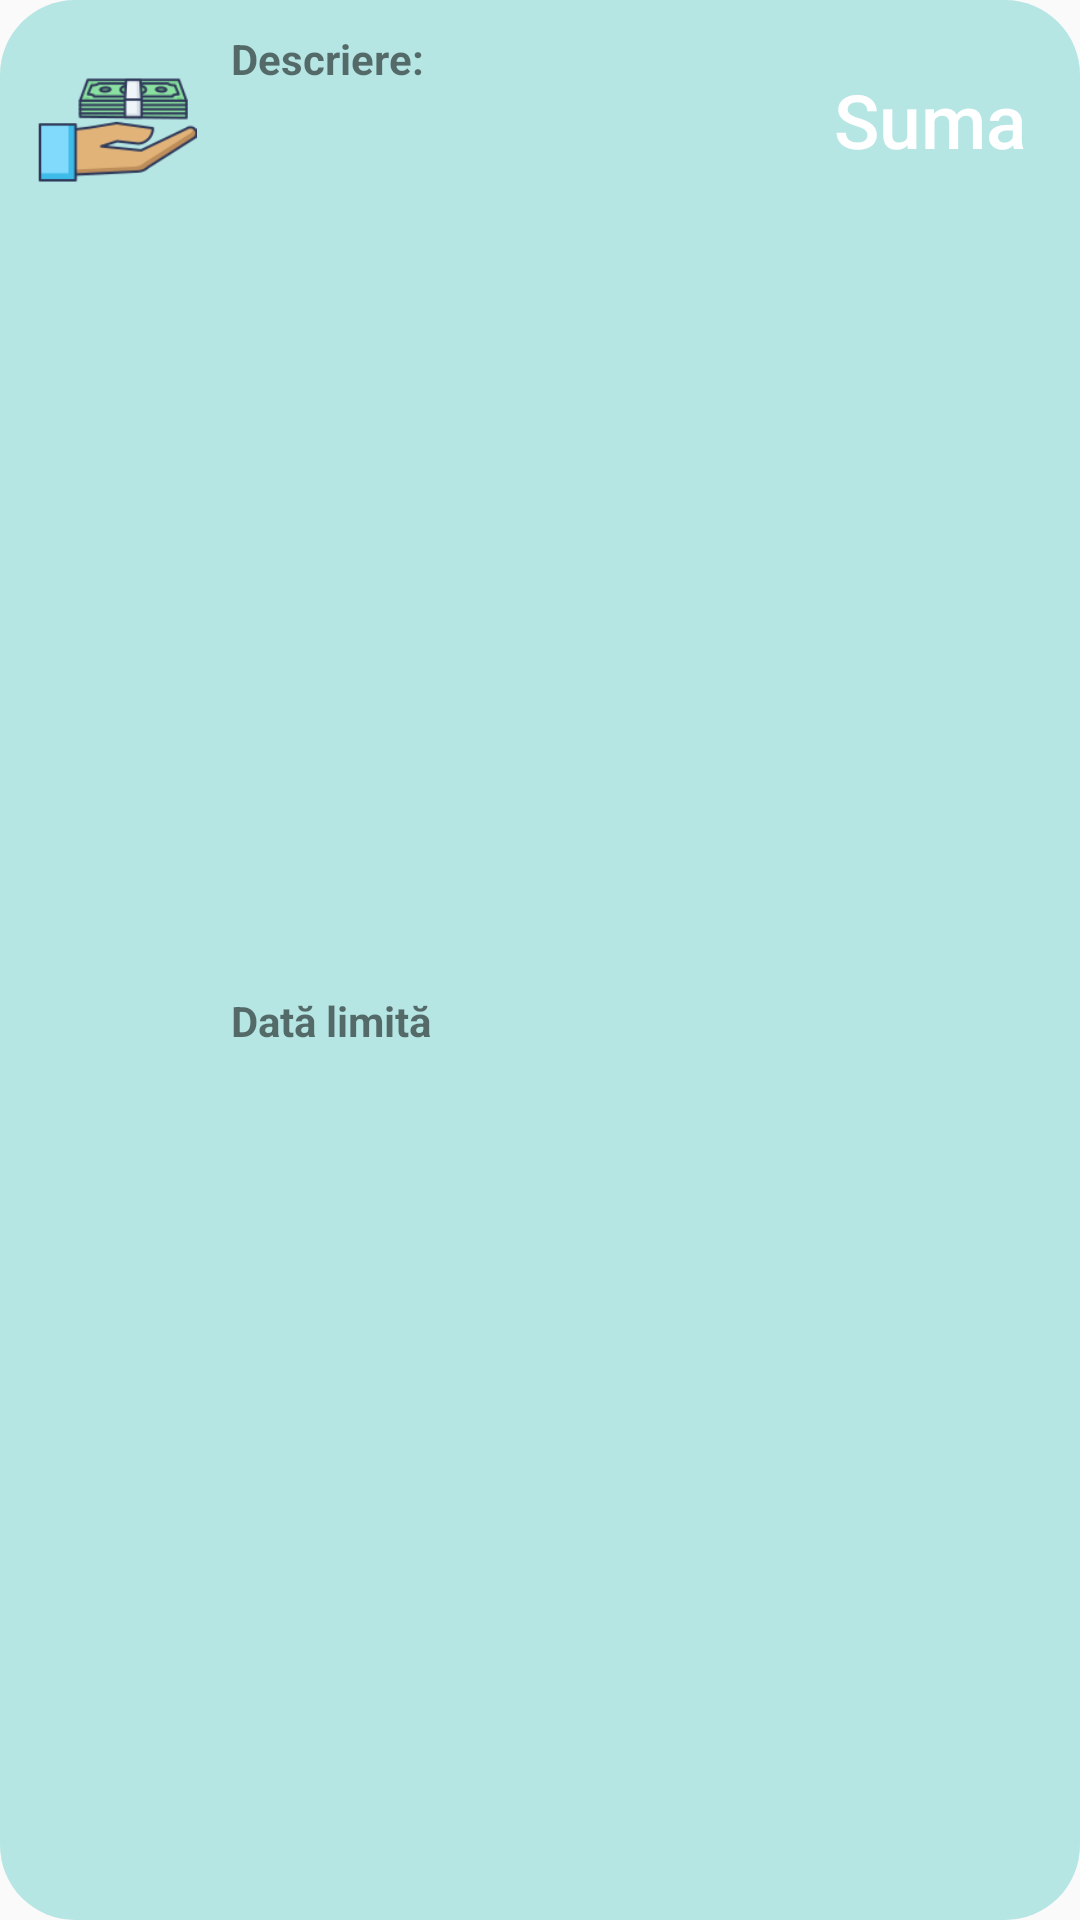

Screen size 1080w x 1920h. Icon name, then its center in pixels as (x,y):
bani: (117,130)
